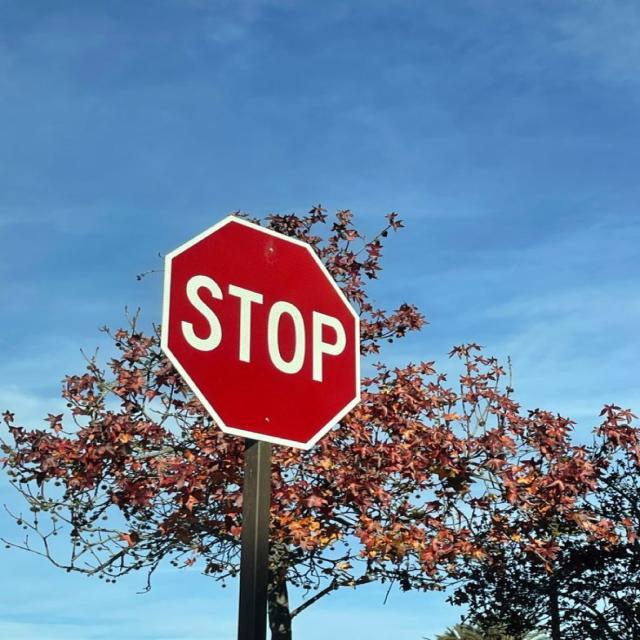stop: (159, 214, 361, 450)
